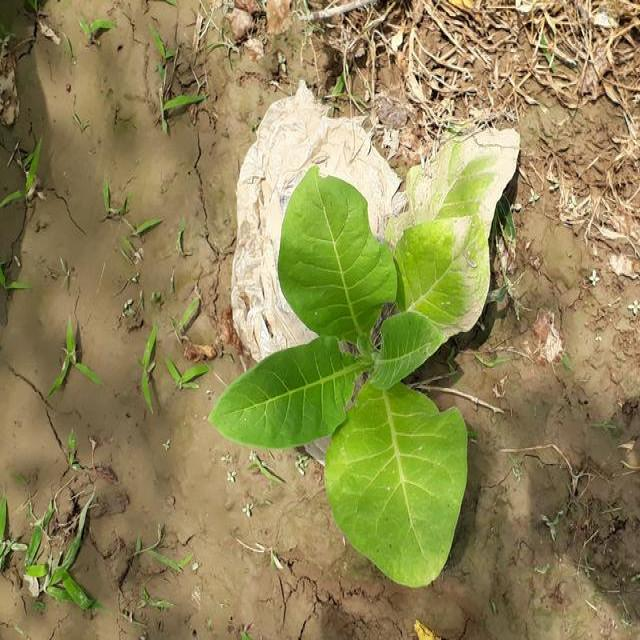crop: (228, 95, 510, 577)
